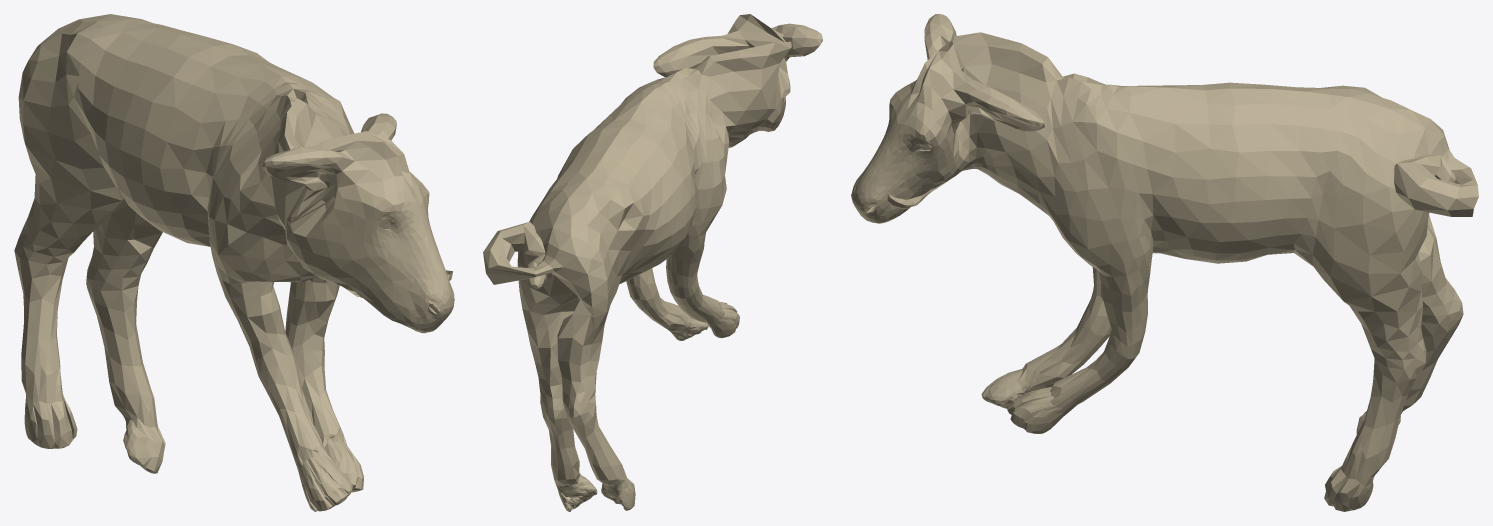
The picture shows the model from 3 angles, left to right: view 1: azimuth 30°, elevation 25°; view 2: azimuth 150°, elevation 25°; view 3: azimuth 270°, elevation 25°; orthographic projection. The views are drawn at different scales.
Visible parts, largest first — view 1: world; view 2: world; view 3: world.
Part boxes in pixels (x1,y1,x2,y2): world: [14, 14, 454, 511]; world: [483, 14, 822, 511]; world: [851, 14, 1478, 511].
Bounding box in the file's own units: 0.5253 × 1.34 × 1.68.
